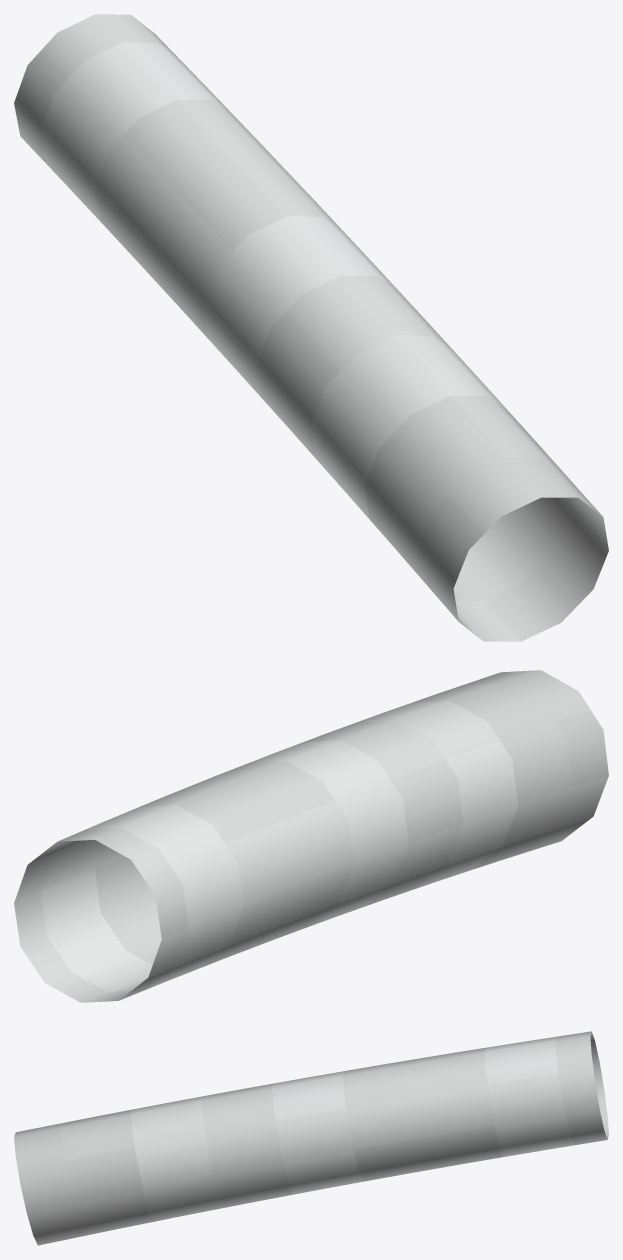
Rendered from luminairearm_vannuystriple_c2.obj.
3 views of the same model, one above another, from view 1: azimuth 30°, elevation 25°; view 2: azimuth 150°, elevation 25°; view 3: azimuth 270°, elevation 25° (orthographic). The views are drawn at different scales.
Visible parts, largest first — view 1: luminairearm_vannuystriple_c2; view 2: luminairearm_vannuystriple_c2; view 3: luminairearm_vannuystriple_c2.
Part boxes in pixels (x1=…): luminairearm_vannuystriple_c2: x1=14, y1=14, x2=608, y2=641; luminairearm_vannuystriple_c2: x1=14, y1=670, x2=608, y2=1002; luminairearm_vannuystriple_c2: x1=14, y1=1031, x2=608, y2=1245.
Bounding box in the file's own units: 0.2025 × 0.3927 × 1.04.
